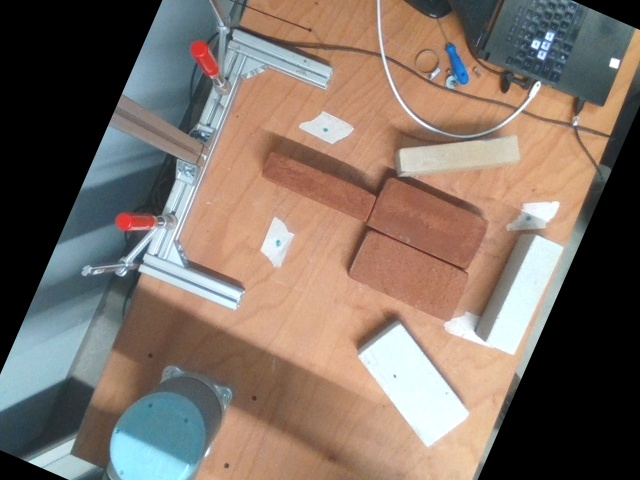brick: (369, 177, 489, 268), (349, 231, 468, 319)
brick-side: (359, 324, 470, 446), (489, 236, 563, 354), (262, 150, 375, 219), (401, 137, 519, 173)
